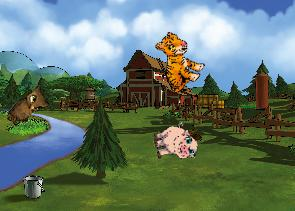owl: (4, 81, 55, 135)
pig: (150, 120, 199, 166)
tiger: (141, 28, 211, 97)
